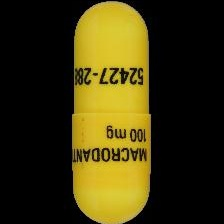50090-0314: (0, 0, 224, 224)
